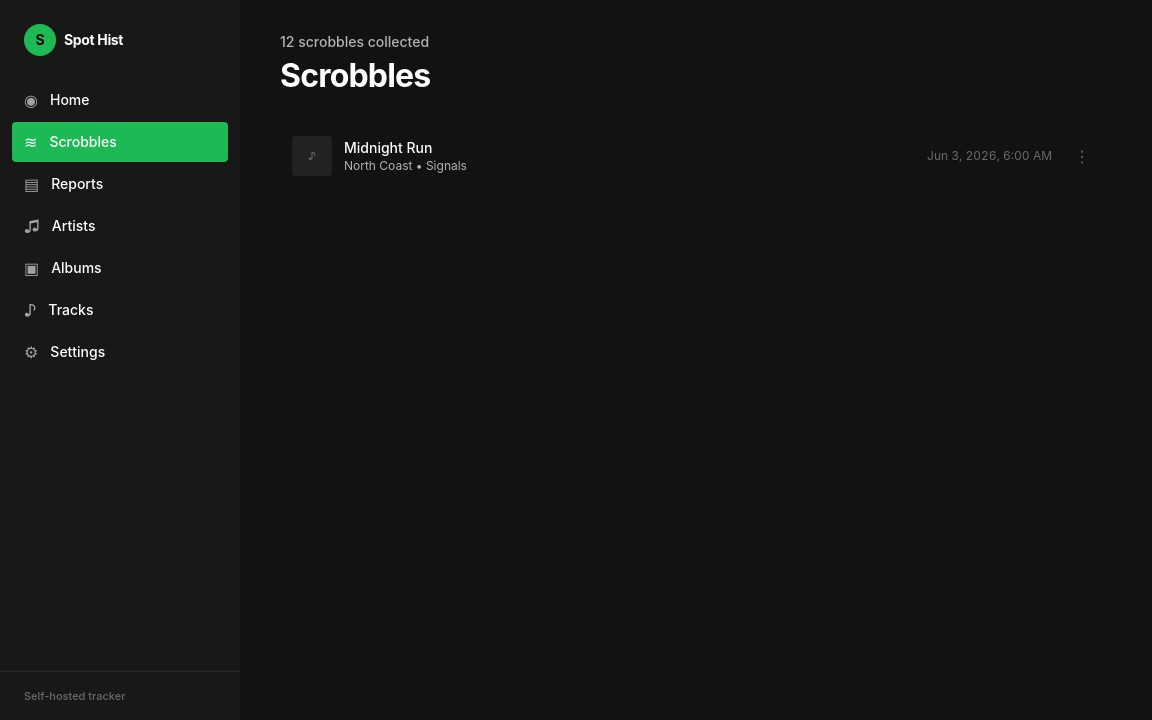
Test case: scrobbles page › deletes an individual scrobble from the full scrobbles list
This screenshot has width=1152, height=720.
Expected: the link "Midnight Run" is shown, top-left (344, 139), bottom-right (432, 156)
Click the button named "Scrobble actions": (1082, 156) top-left (1064, 138), bottom-right (1100, 174)
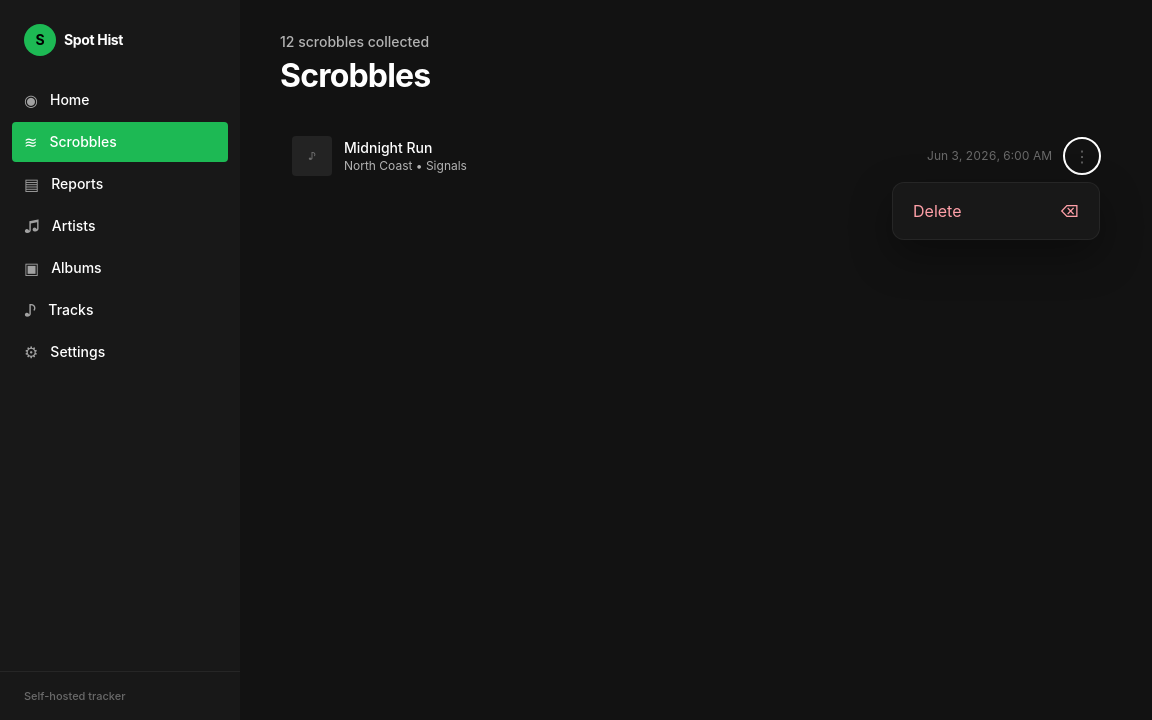
Click the button "Delete ⌫": (996, 211) top-left (901, 191), bottom-right (1091, 231)
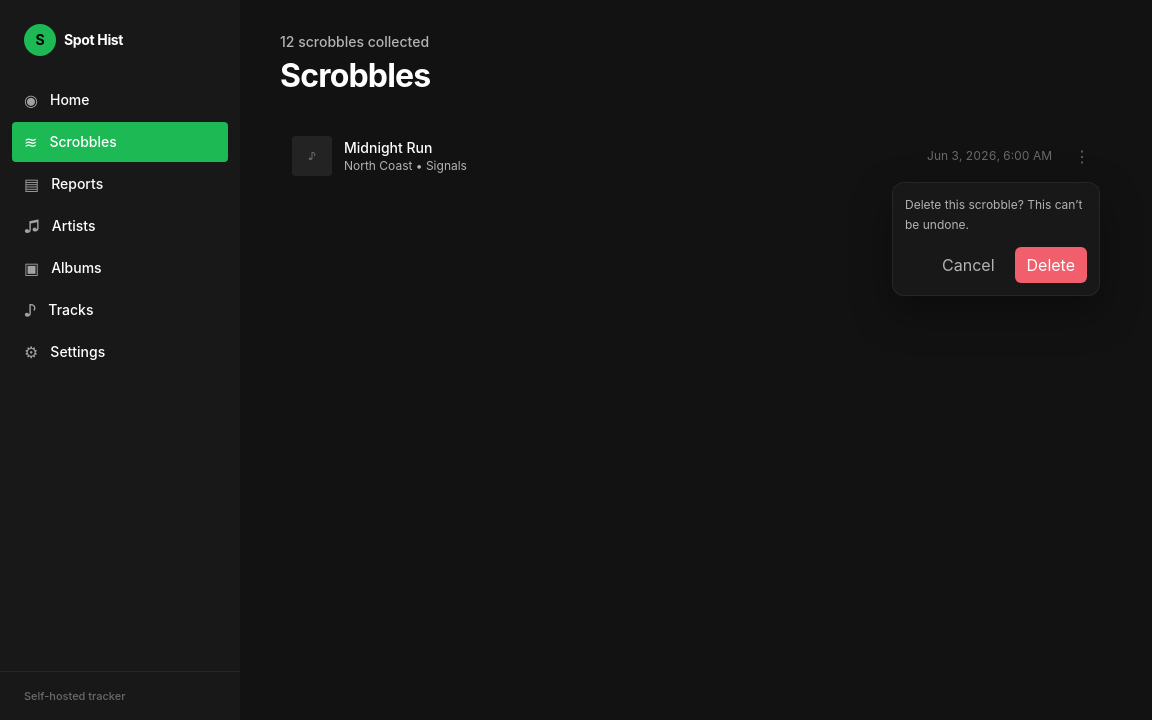
Expected: the text "Delete this scrobble? This can’t be undone." is shown, top-left (905, 195), bottom-right (1087, 235)
Click the button "Delete": (1051, 265) top-left (1014, 247), bottom-right (1087, 283)
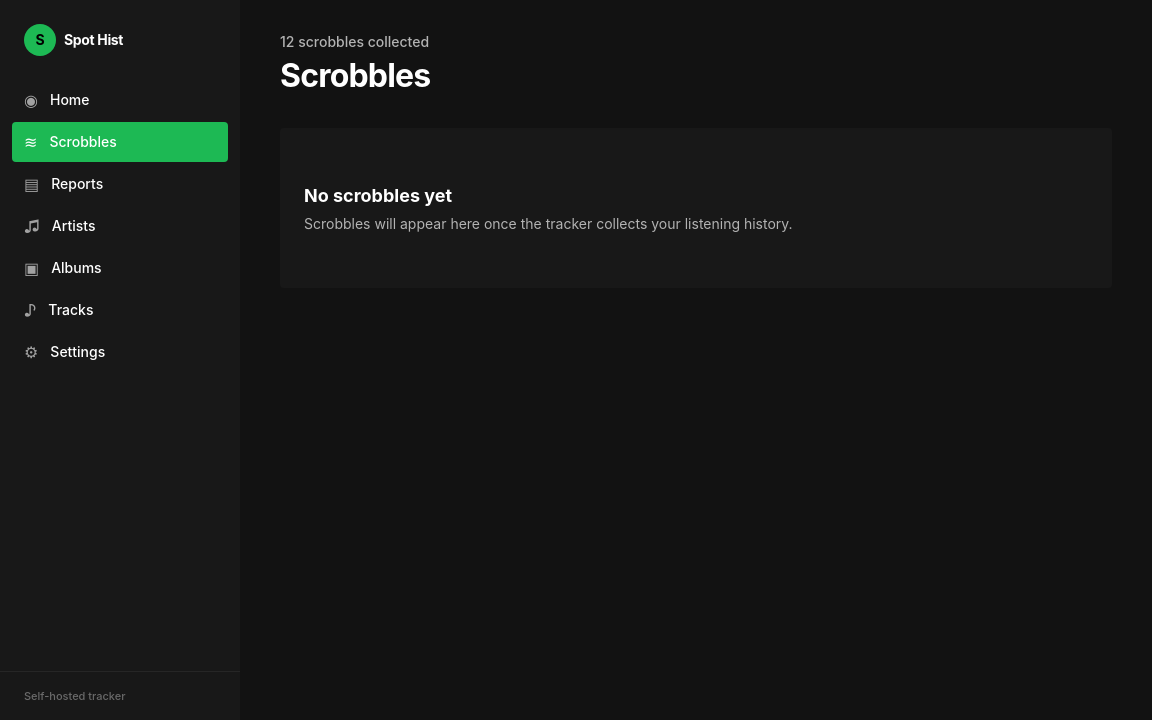
Expected: the link "Midnight Run" is gone
Expected: the heading "No scrobbles yet" is shown, top-left (304, 185), bottom-right (452, 206)
